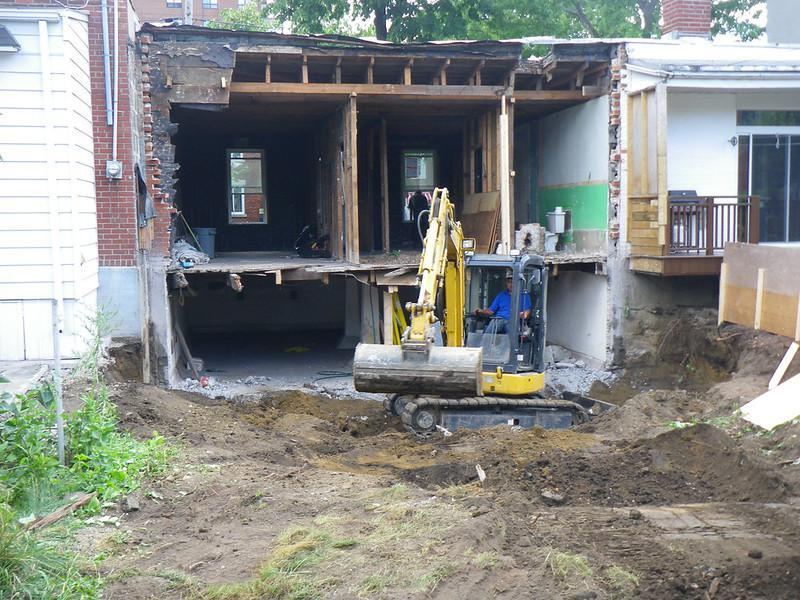EXCAVATORS: (355, 189, 622, 438)
